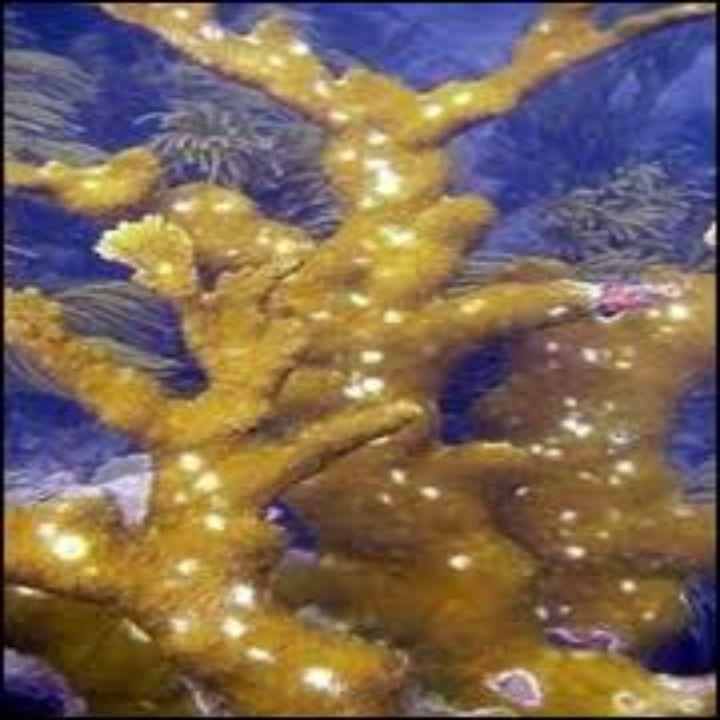White Pox Disease: (31, 29, 695, 694)
